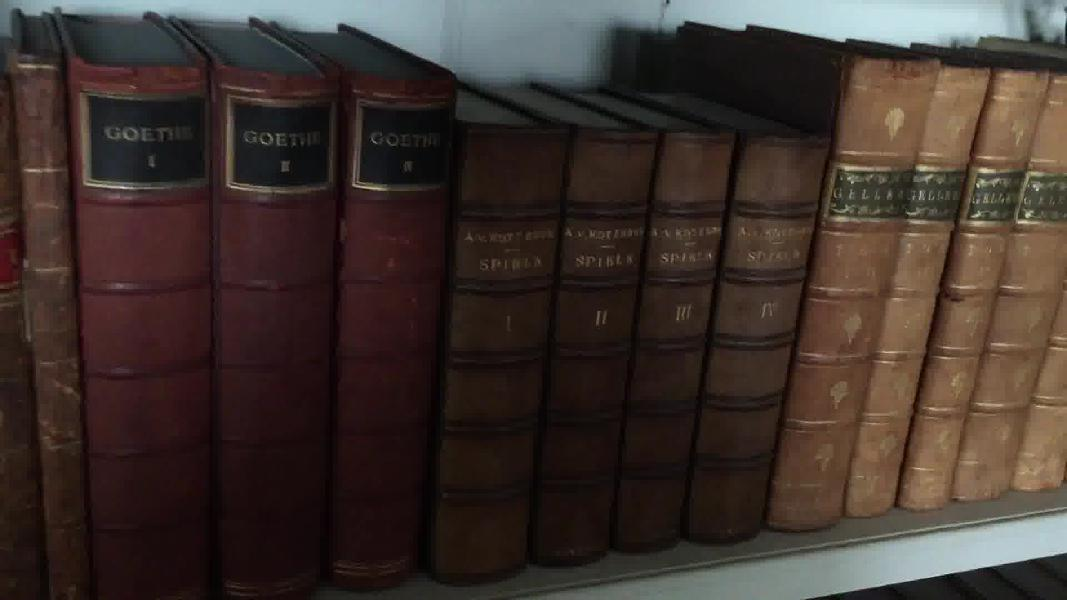Aa6-10: (9, 44, 91, 600)
Aa6-11_13: (66, 48, 447, 600)
Aa6-14_17: (446, 105, 824, 590)
Aa6-18_23: (792, 29, 1067, 528)
